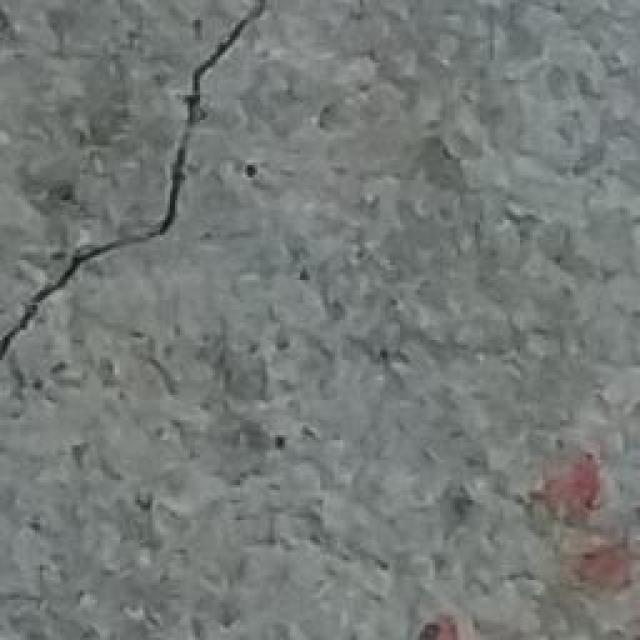Diagonal: (0, 0, 279, 360)
Rippled: (287, 0, 640, 640), (0, 363, 296, 640)
